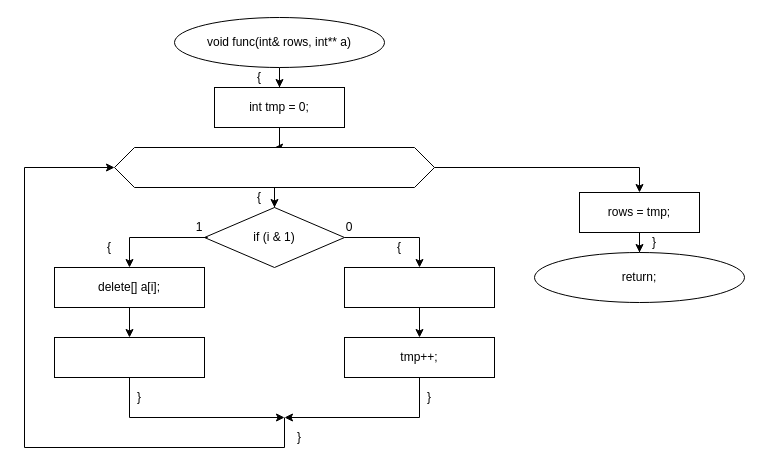
Image size: 762x473. Some labels were removed from this diagram. The shapes that lost their labels are listed below. From the top down, each one's centre as x and y in pixels, then its label:
At [274,167]: "for (int i = 0; i < rows; i++)".
At [419,287]: "a[tmp] = a[i];".
At [129,357]: "a[i] = nullptr;".
